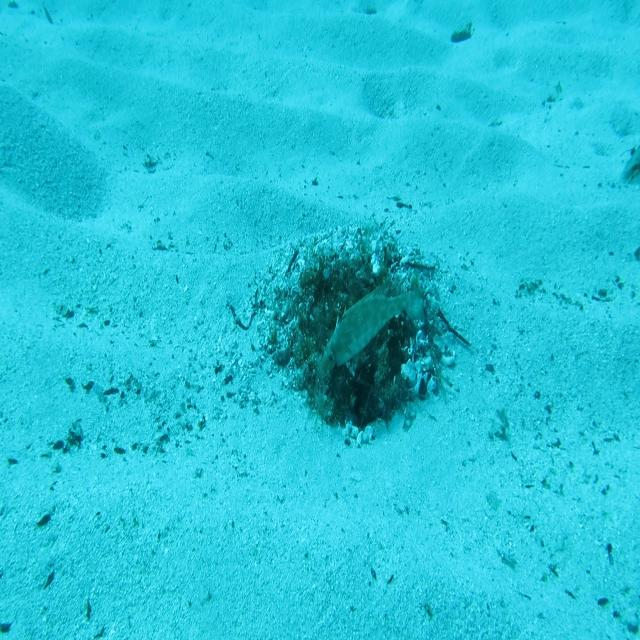NIP_IN: (318, 274, 426, 378)
core_nest: (323, 276, 369, 310)
female: (617, 143, 640, 189)
nest: (241, 210, 468, 460)
vegetation: (450, 25, 472, 45)
